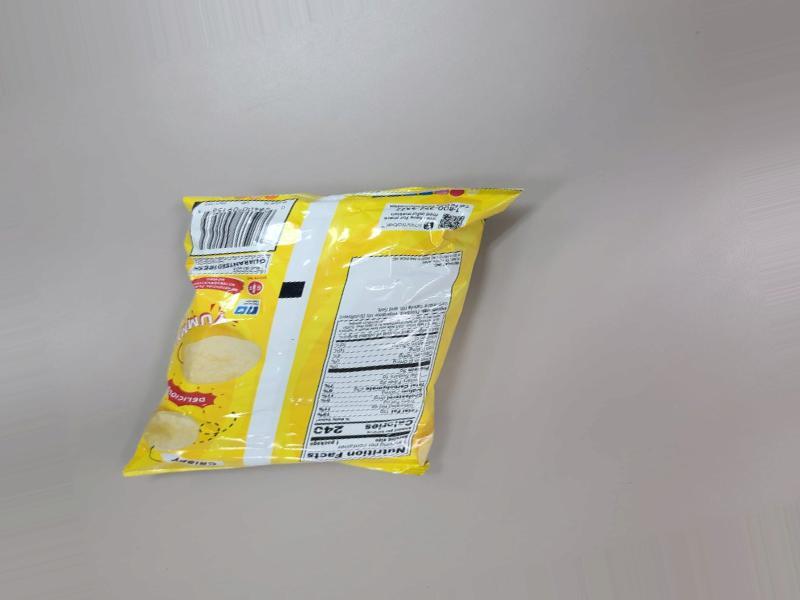lays: (131, 179, 537, 499)
